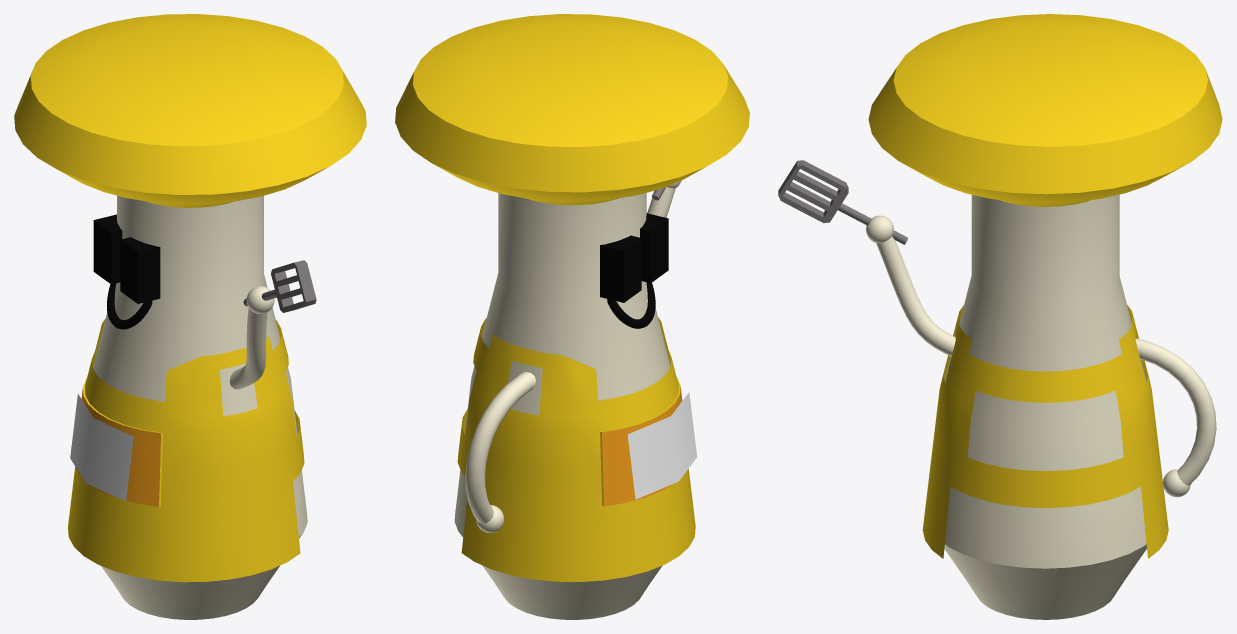
File: character_blender.gltf
3 renders of one model, left to right at view 1: azimuth 30°, elevation 25°; view 2: azimuth 150°, elevation 25°; view 3: azimuth 270°, elevation 25°, orthographic.
Parts seen in each view (by area): view 1: body, apron, curry, eye r, eye l, 뒤집개, 팔, mouth, hand; view 2: body, apron, curry, 팔 L, eye l, eye r, mouth, 팔; view 3: body, apron, 팔 L, 뒤집개, 팔, hand.
Boxes of the visible parts, left/top/right/bottom form: body: left=14, top=14, right=366, bottom=619; apron: left=68, top=318, right=304, bottom=582; curry: left=70, top=394, right=133, bottom=501; eye r: left=120, top=237, right=160, bottom=303; eye l: left=93, top=214, right=122, bottom=284; 뒤집개: left=243, top=260, right=316, bottom=312; 팔: left=229, top=308, right=267, bottom=389; mouth: left=107, top=283, right=152, bottom=329; hand: left=246, top=286, right=274, bottom=313; body: left=395, top=14, right=749, bottom=619; apron: left=457, top=317, right=695, bottom=581; curry: left=627, top=392, right=697, bottom=499; 팔 L: left=465, top=372, right=535, bottom=523; eye l: left=600, top=235, right=641, bottom=302; eye r: left=640, top=213, right=668, bottom=283; mouth: left=607, top=282, right=655, bottom=328; 팔: left=647, top=187, right=675, bottom=217; body: left=868, top=14, right=1222, bottom=619; apron: left=922, top=305, right=1168, bottom=558; 팔 L: left=1135, top=338, right=1216, bottom=485; 뒤집개: left=778, top=160, right=907, bottom=244; 팔: left=876, top=236, right=955, bottom=356; hand: left=866, top=215, right=893, bottom=243.
Size of the model in its own units: 5.04 by 8.26 by 6.32.
